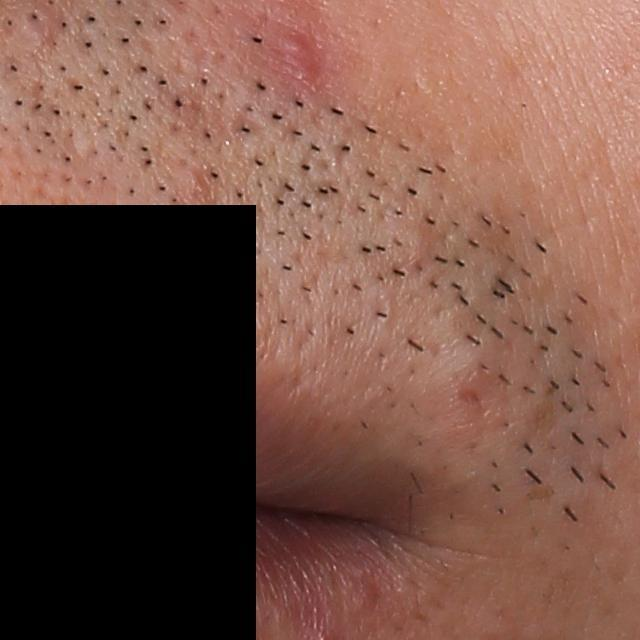papule: (280, 29, 319, 81)
